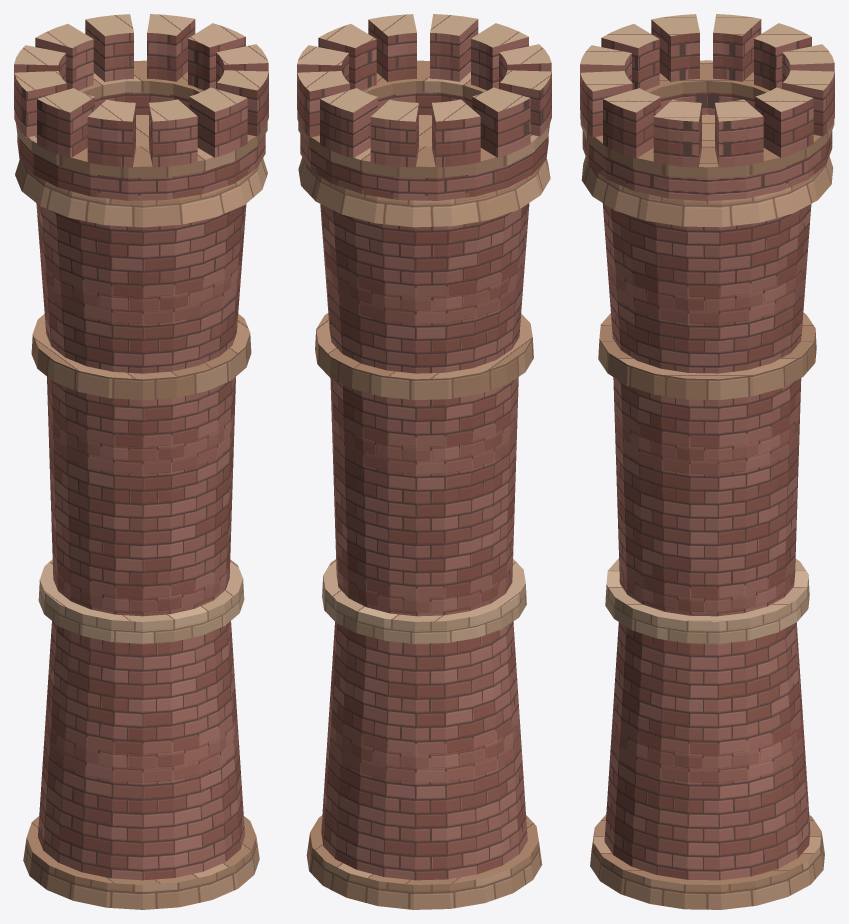
Rendered from Tower_Round_Thin.obj.
3 renders of one model, left to right at view 1: azimuth 30°, elevation 25°; view 2: azimuth 150°, elevation 25°; view 3: azimuth 270°, elevation 25°, orthographic.
Visible parts, largest first — view 1: Brick_Rose, Stone_Sand, Stone_Light; view 2: Brick_Rose, Stone_Sand, Stone_Light; view 3: Brick_Rose, Stone_Sand, Stone_Light.
Boxes of the visible parts, left/top/right/bottom form: Brick_Rose: left=14, top=19, right=268, bottom=880; Stone_Sand: left=15, top=60, right=267, bottom=909; Stone_Light: left=14, top=14, right=268, bottom=643; Brick_Rose: left=297, top=19, right=551, bottom=880; Stone_Sand: left=298, top=60, right=550, bottom=909; Stone_Light: left=297, top=14, right=551, bottom=643; Brick_Rose: left=580, top=19, right=834, bottom=880; Stone_Sand: left=580, top=60, right=834, bottom=909; Stone_Light: left=580, top=14, right=834, bottom=643.
Size of the model in its own units: 2.26 by 7.76 by 2.26.
Materials: 3 (3 with a texture image).
